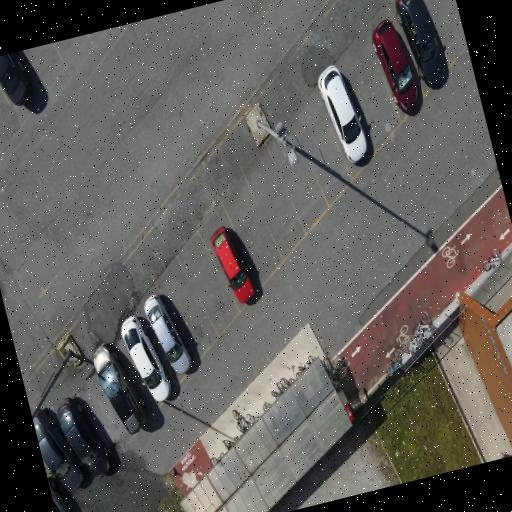harvester: (414, 310, 434, 341), (385, 349, 402, 375), (401, 335, 421, 356), (483, 248, 502, 270), (233, 409, 251, 432), (272, 377, 290, 397), (237, 418, 249, 432), (295, 362, 306, 376), (246, 413, 260, 423), (332, 378, 342, 391), (224, 439, 233, 449), (262, 401, 271, 410), (210, 456, 218, 466), (307, 355, 315, 363)
person: (318, 65, 367, 162), (94, 344, 146, 433), (396, 0, 448, 88), (372, 19, 418, 114), (57, 398, 110, 476), (121, 316, 170, 400), (33, 411, 84, 490), (144, 294, 191, 373), (211, 226, 253, 302), (0, 53, 29, 104), (48, 478, 70, 511)
